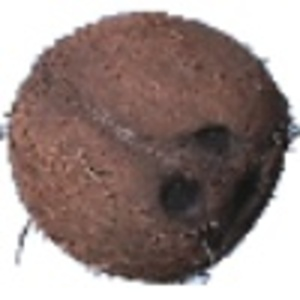coco: (1, 9, 300, 286)
